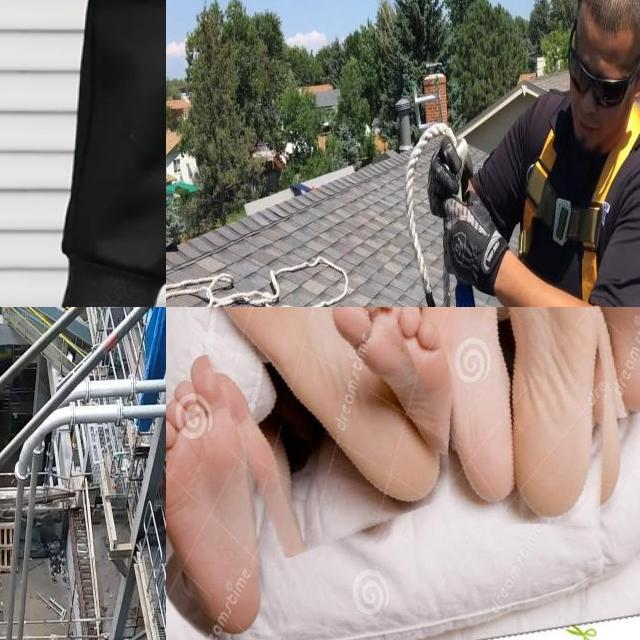Barefoots: (204, 307, 455, 505), (166, 355, 271, 640), (399, 307, 521, 511), (506, 307, 599, 524)
Harness: (520, 104, 640, 300)
